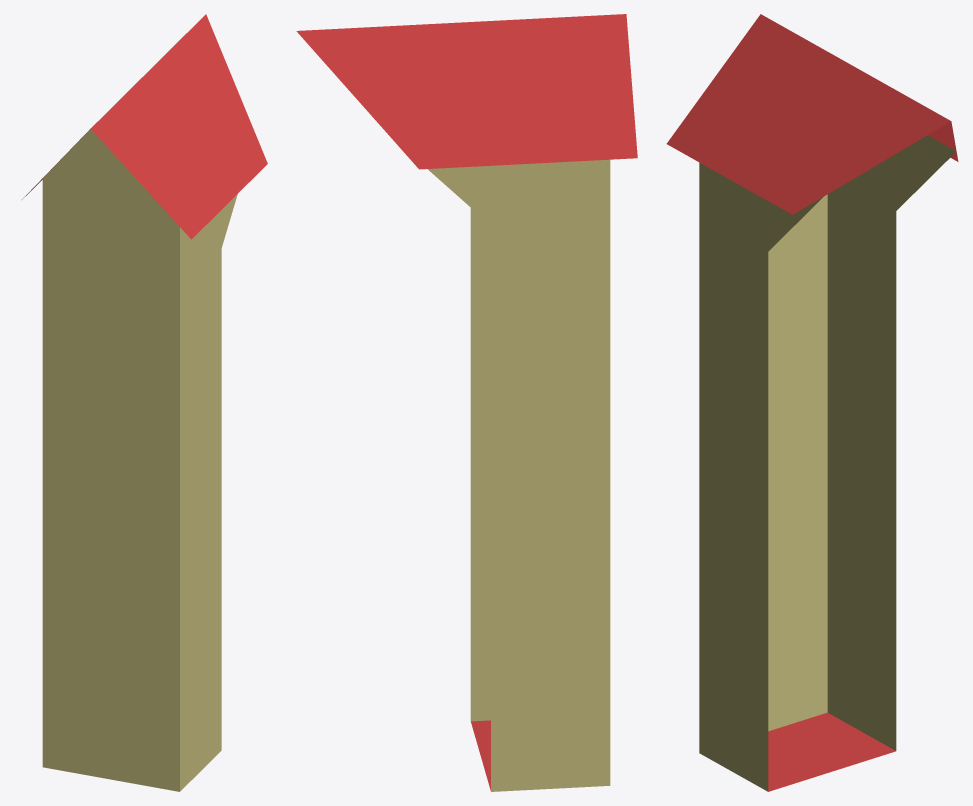
The picture shows the model from 3 angles, left to right: view 1: azimuth 30°, elevation 25°; view 2: azimuth 150°, elevation 25°; view 3: azimuth 270°, elevation 25°; orthographic projection. The views are drawn at different scales.
Size of the model in its own units: 6.52 by 6.2 by 16.56.
